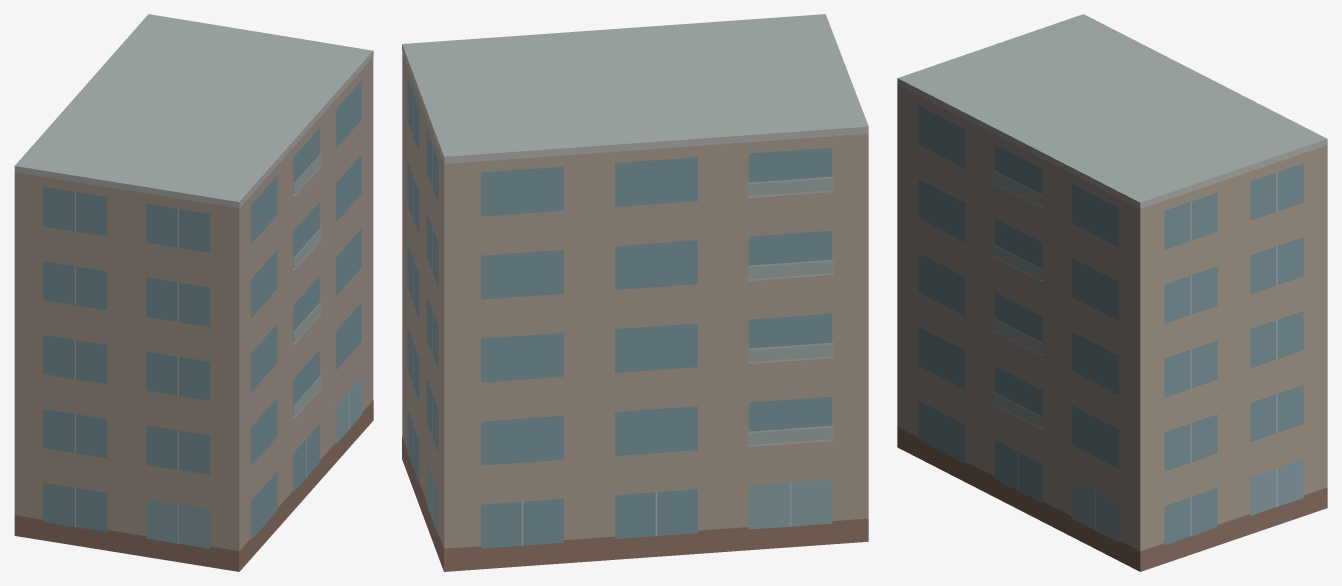
Rendered from survey-upis-32754528.glb.
The picture shows the model from 3 angles, left to right: view 1: azimuth 30°, elevation 25°; view 2: azimuth 150°, elevation 25°; view 3: azimuth 270°, elevation 25°; orthographic projection. The views are drawn at different scales.
Visible parts, largest first — view 1: survey-upis-32754528.tmp; view 2: survey-upis-32754528.tmp; view 3: survey-upis-32754528.tmp.
Boxes of the visible parts, x1=… form: survey-upis-32754528.tmp: x1=14, y1=14, x2=373, y2=571; survey-upis-32754528.tmp: x1=402, y1=14, x2=868, y2=571; survey-upis-32754528.tmp: x1=897, y1=14, x2=1327, y2=571.
Size of the model in its own units: 15.57 by 14.2 by 15.
